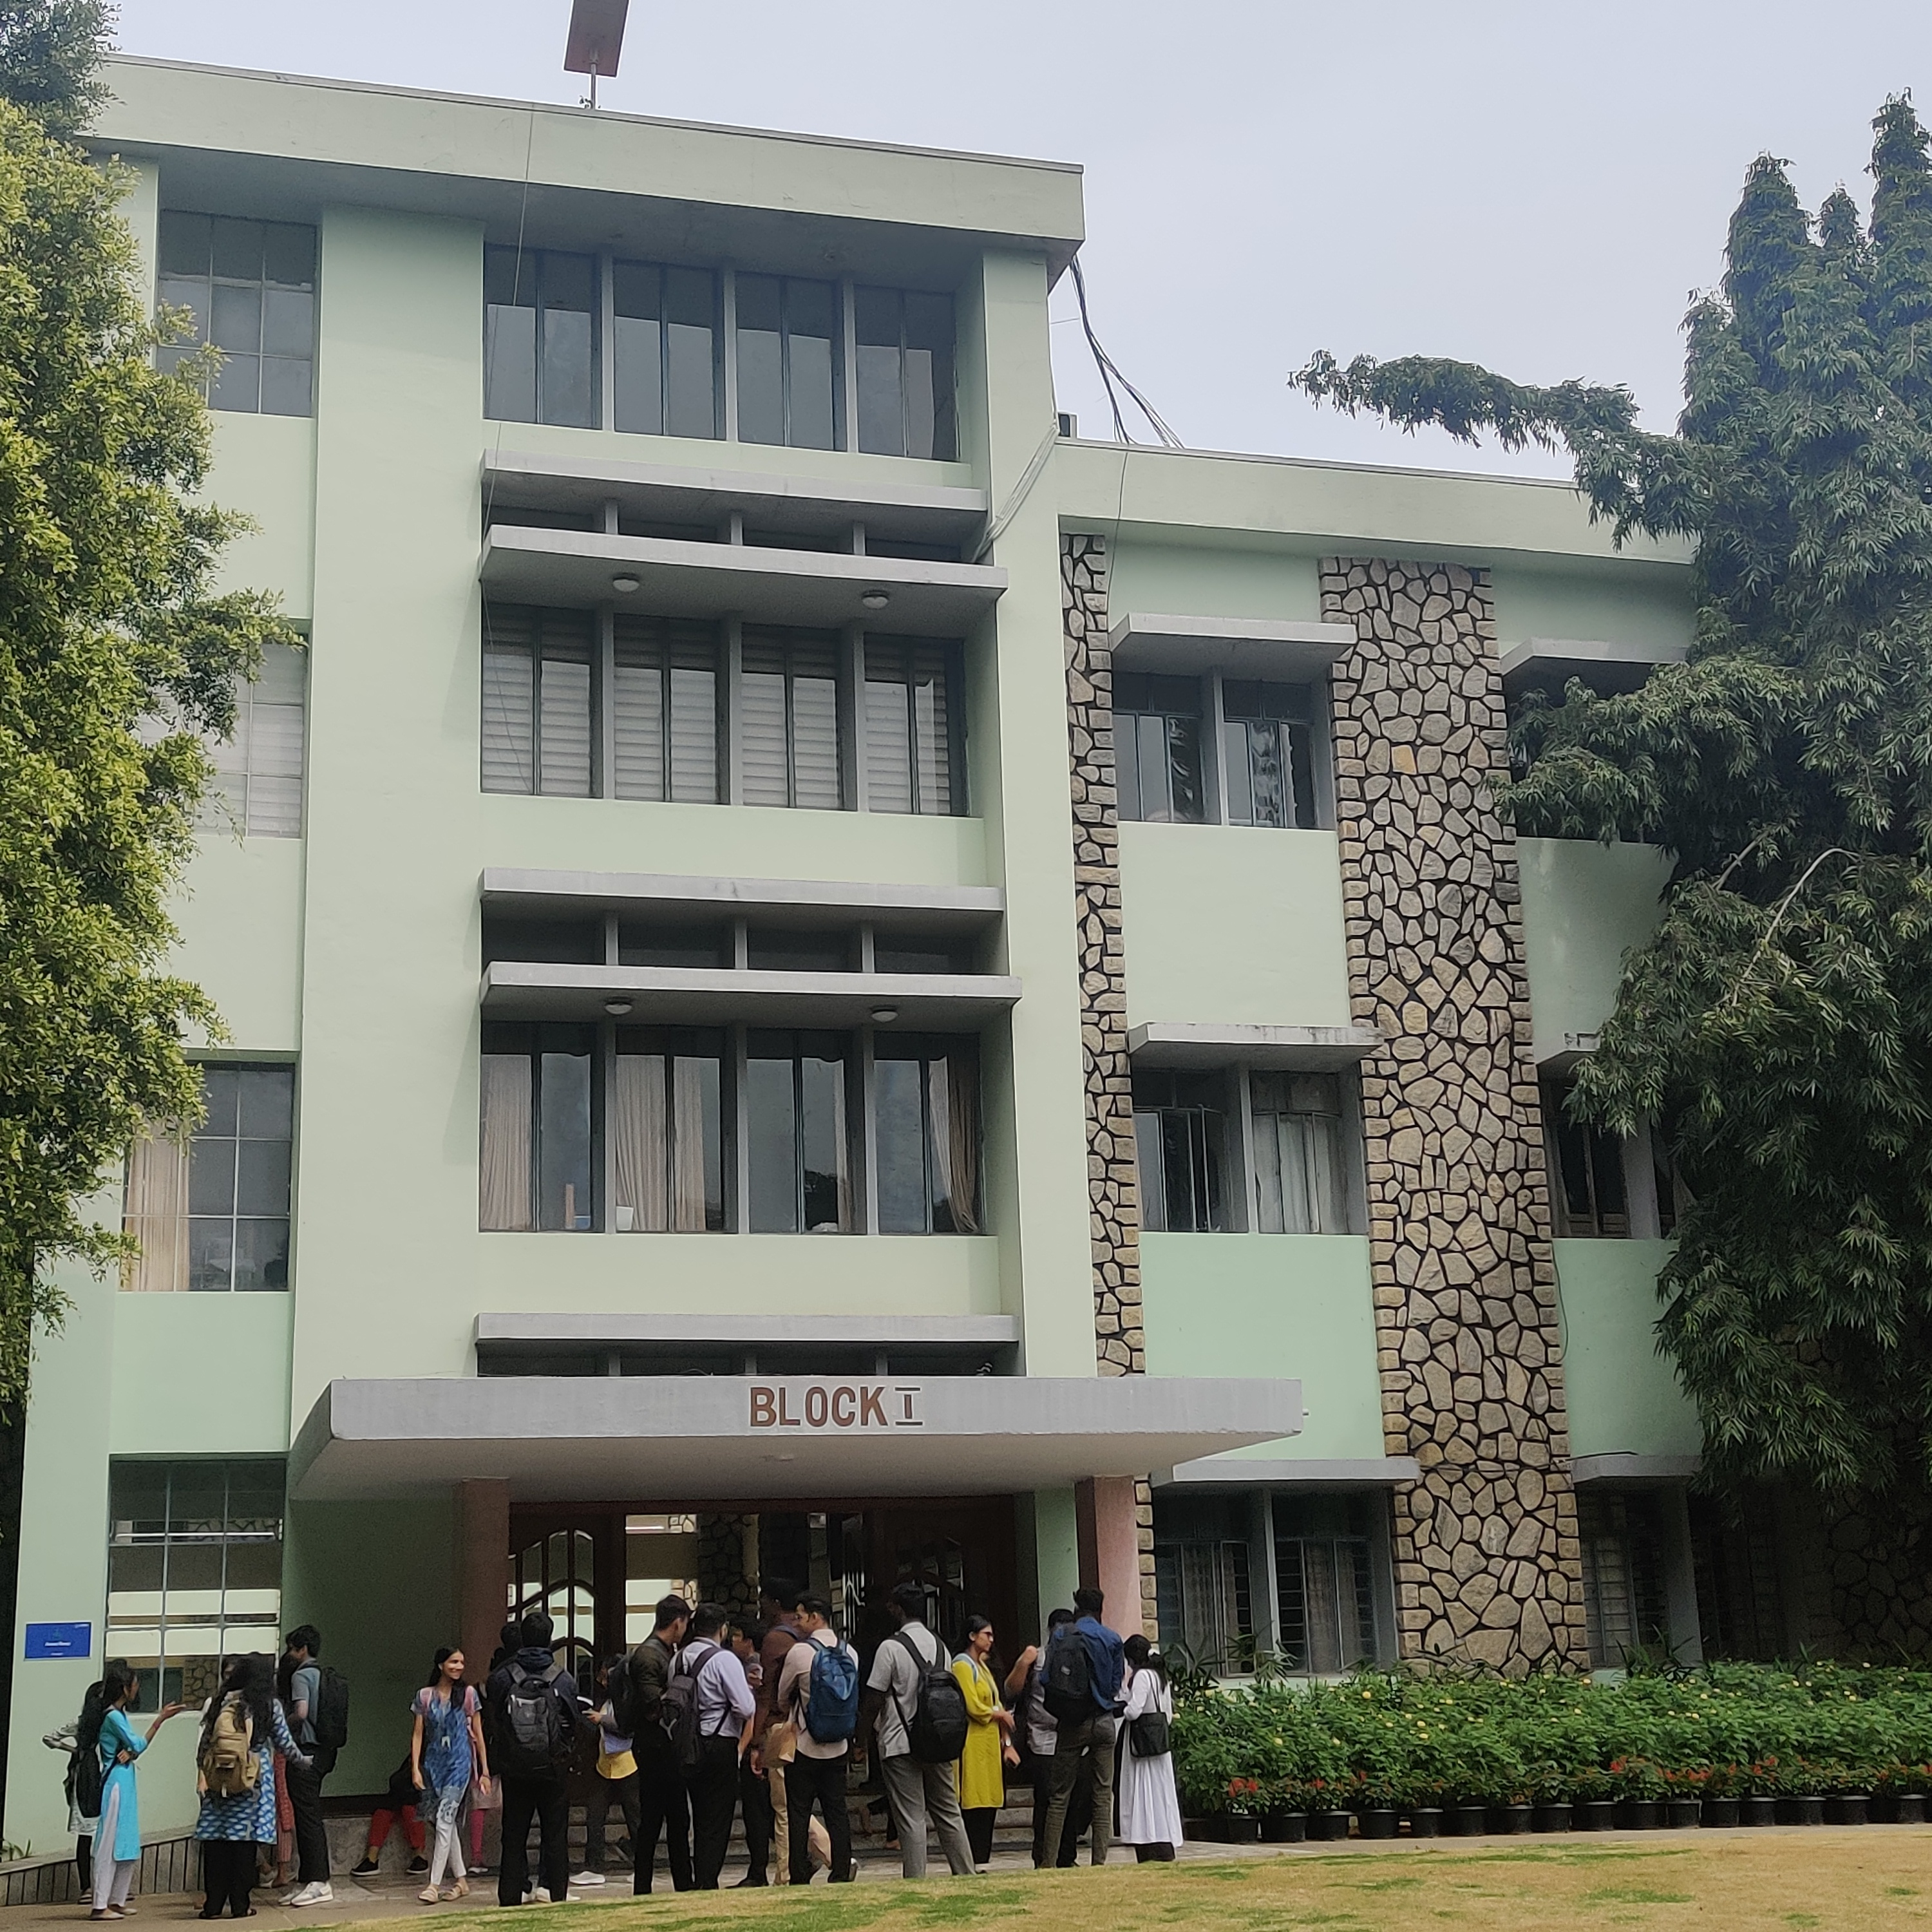Block 1: (196, 28, 1658, 1686)
